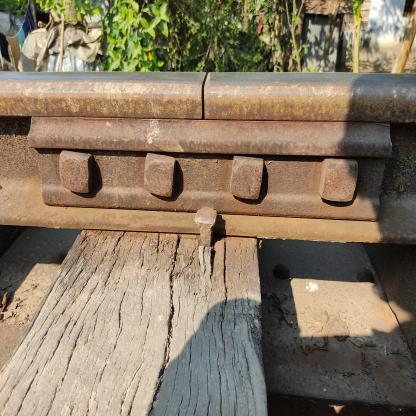Non Defective: (9, 55, 401, 289)
